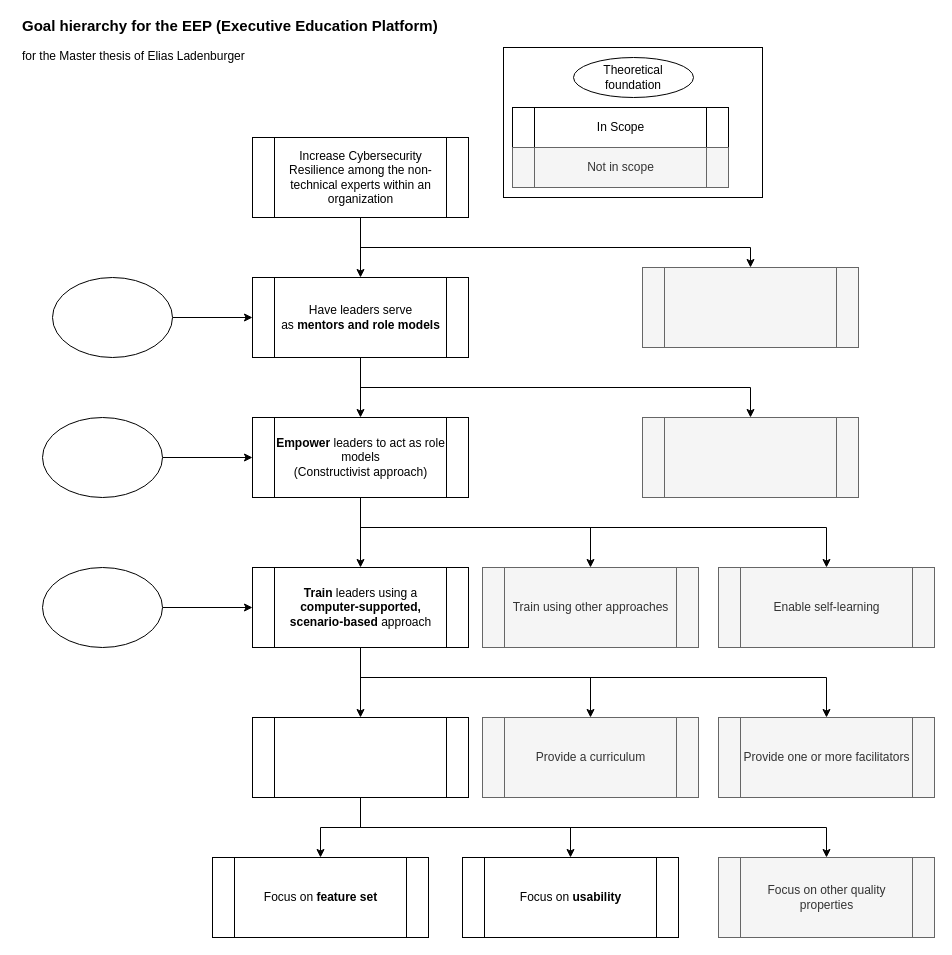
This 952x955 diagram has some shape labels left out. Each missing label, with the box of its shape:
Active Learning PBL, SBL, Gamification: (42, 566, 162, 648)
Bloom's taxonomy (knowledge and skill-based goals) (1991): (42, 416, 162, 498)
Fayol (1925), Lewin (1947), Schein (1990), ...: (52, 276, 172, 358)
Incentivize executives to act as role models (behaviorist approach): (642, 416, 858, 498)
Increase cybersecurity resilience through other means: (642, 266, 858, 348)
Legend: (502, 46, 762, 198)
Provide the educational platform: (252, 716, 468, 798)
